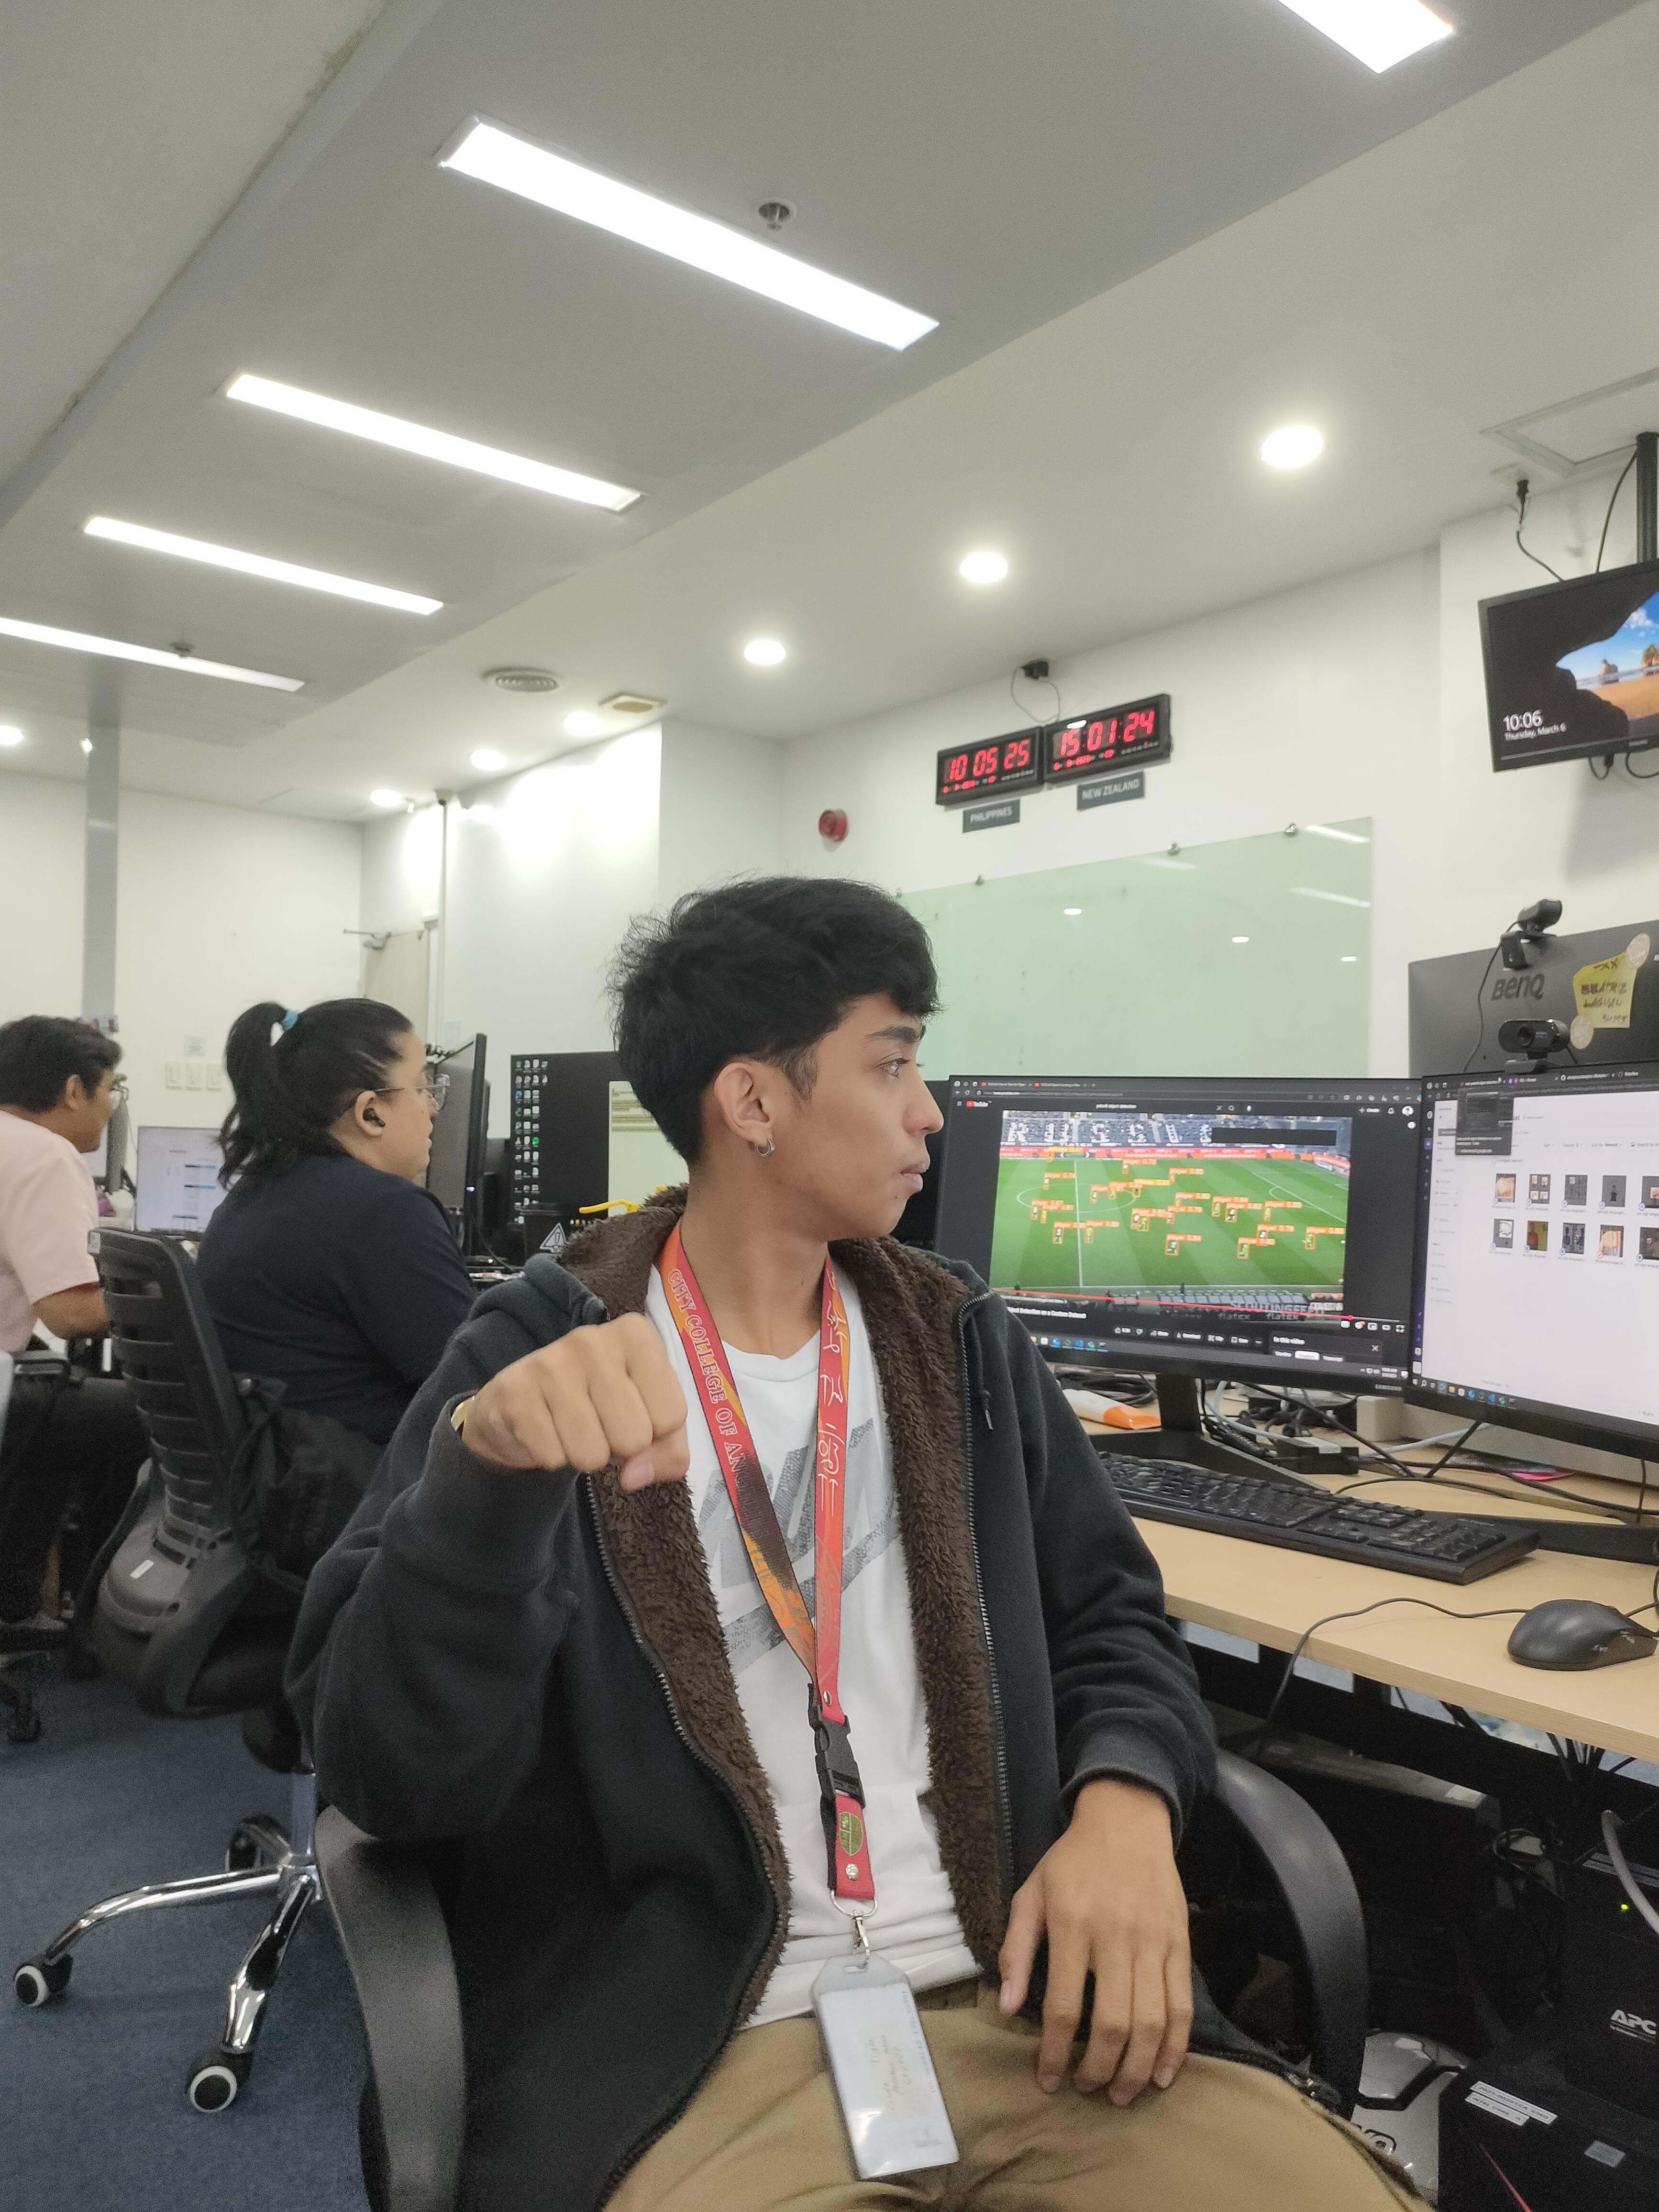Yes: (448, 1308, 713, 1482)
